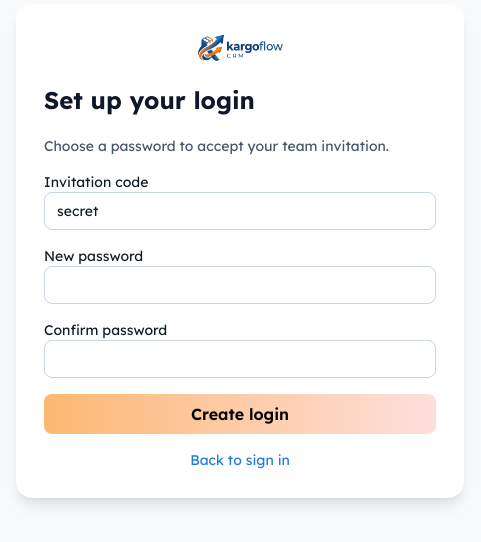
it: displays backend password validation errors
Type "Strong-password-27!" into the password field labelled "New password" at (240,285), box [44, 266, 436, 304]
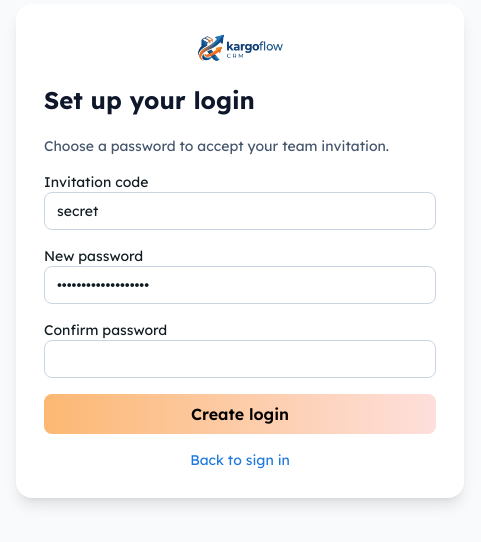
Type "Strong-password-27!" into the password field labelled "Confirm password" at (240,359), box [44, 340, 436, 378]
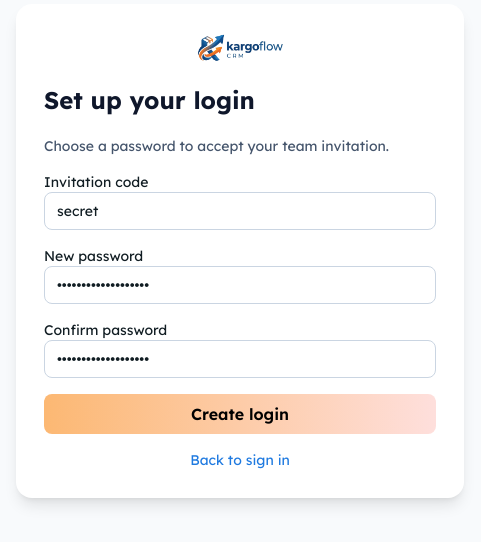
Click the button "Create login" at (240,414), box [44, 394, 436, 434]
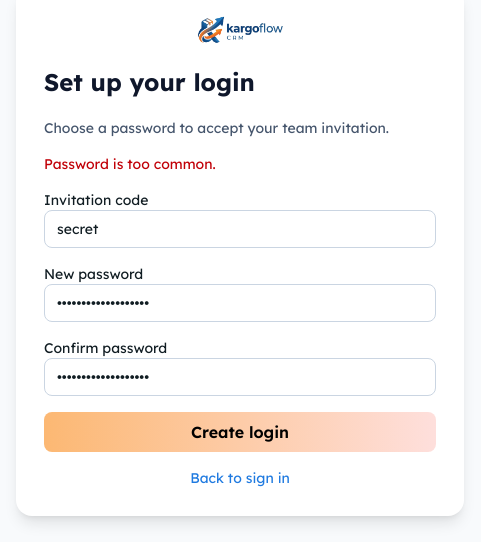
Check: the message reads "Password is too common.", box [44, 155, 216, 173]
